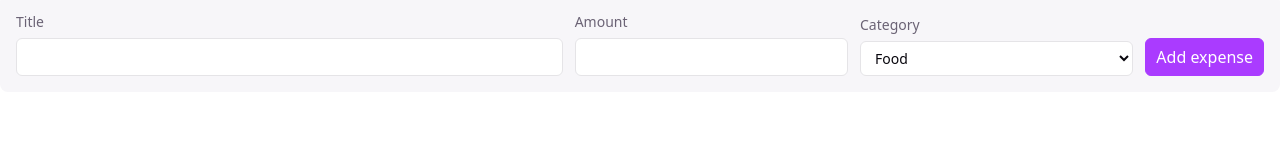
ExpenseForm › rejects the amount abc
The width and height of the screenshot is (1280, 160).
Type "Lunch" into the field labelled "Title" at (289, 57), box [16,38,563,76]
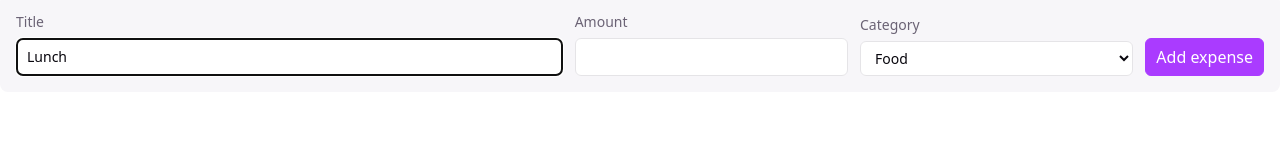
Type "abc" into the field labelled "Amount" at (711, 57), box [575,38,848,76]
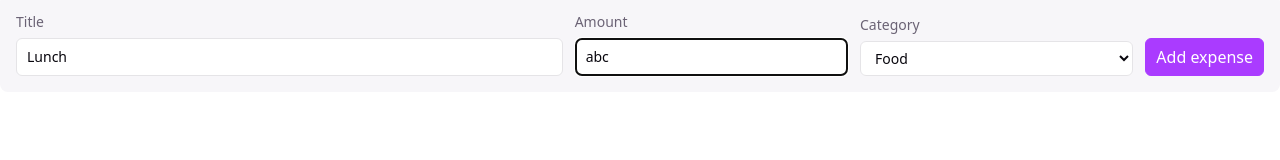
Click the button "Add expense" at (1205, 57), box [1145,38,1264,76]
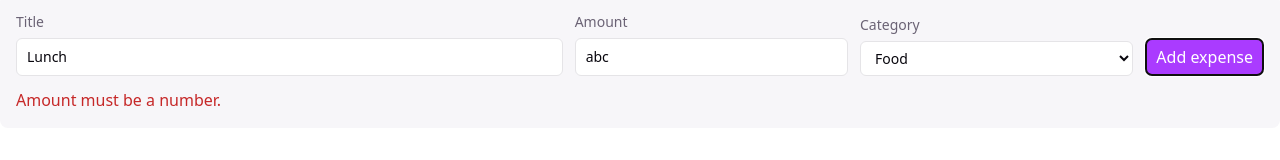
Expected: the message reads "Amount must be a number.", [16,89,221,111]
